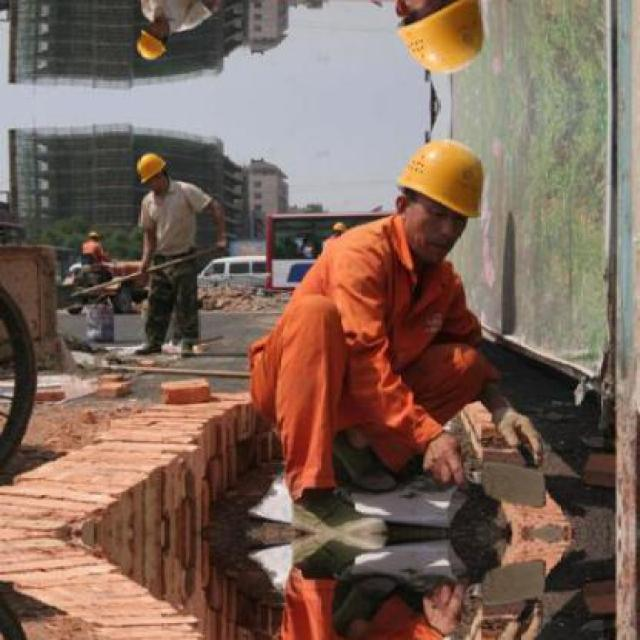helmet: (384, 130, 496, 260), (384, 0, 497, 83), (132, 150, 170, 188), (132, 24, 170, 62)
